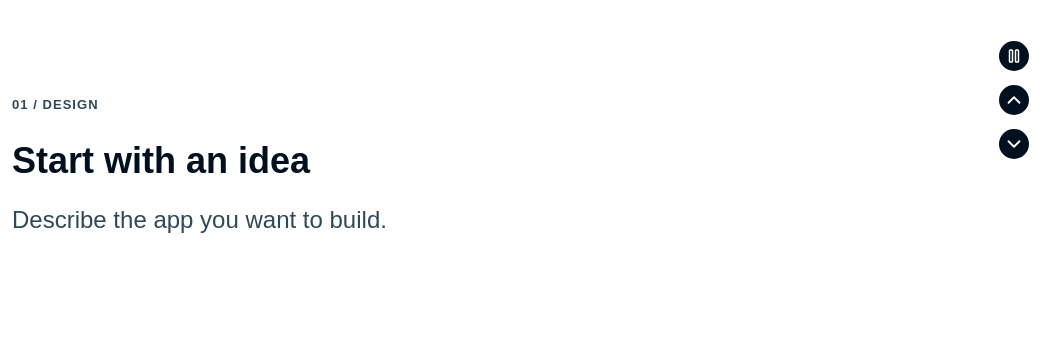
Test: LimeCarousel › pauses on hover and resumes on leave unless manually paused
Hover over the element named "Build stories".
mouse_move(524, 165)  # box x1=12 y1=0 x2=1036 y2=330
Expected: the heading "Start with an idea" is shown, x1=12 y1=140 x2=310 y2=181
Move the pointer off the element named "Build stories"
Wait 4000 ms
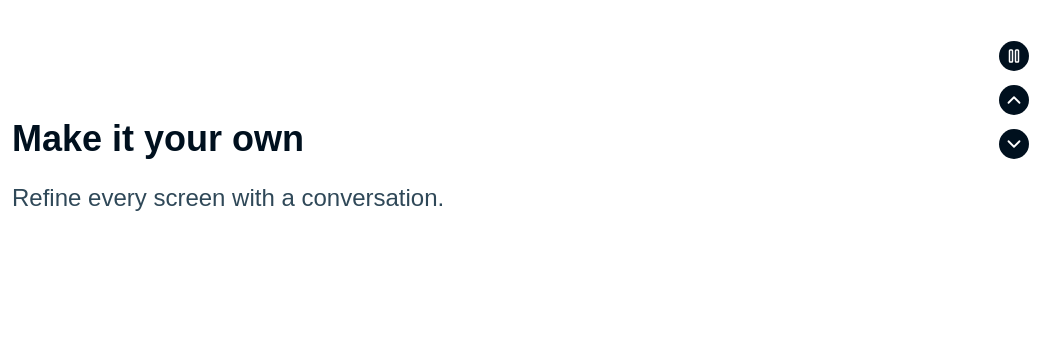
Result: the heading "Make it your own" is shown at x1=12 y1=118 x2=304 y2=159
Click the button named "Pause Build stories".
click(1014, 56)  # box x1=992 y1=34 x2=1036 y2=78
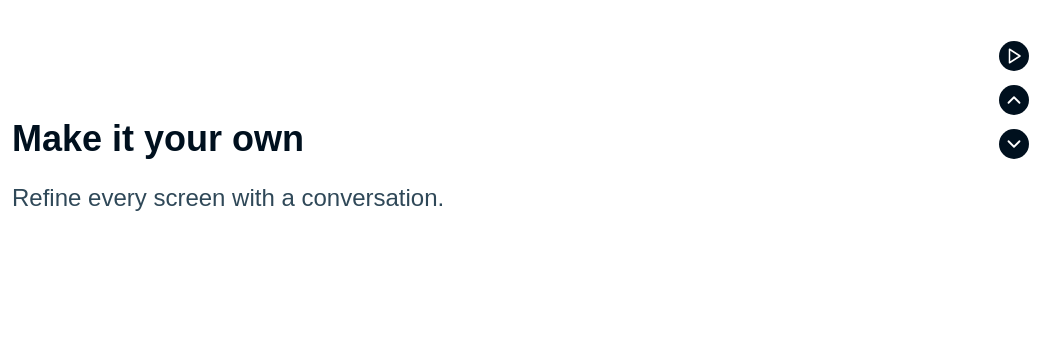
Move the pointer off the element named "Build stories", box x1=12 y1=34 x2=1036 y2=211
Result: the heading "Make it your own" is shown at x1=12 y1=118 x2=304 y2=159
Click the button named "Play Build stories".
click(1014, 56)  # box x1=992 y1=34 x2=1036 y2=78
Wait 4000 ms
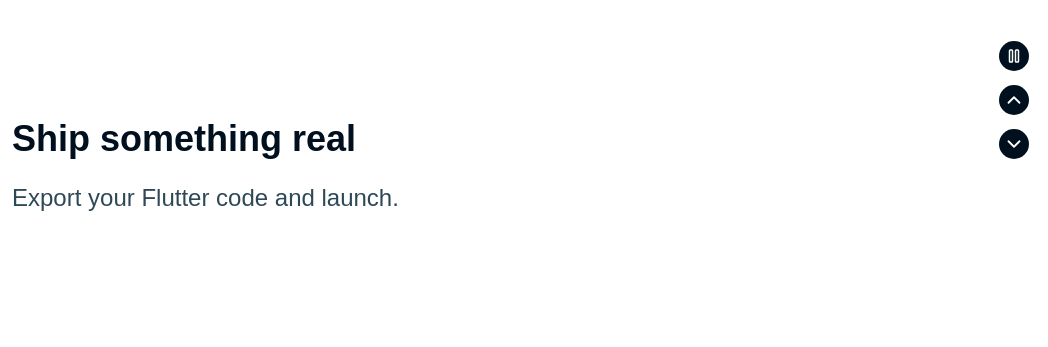
Result: the heading "Ship something real" is shown at x1=12 y1=118 x2=356 y2=159
